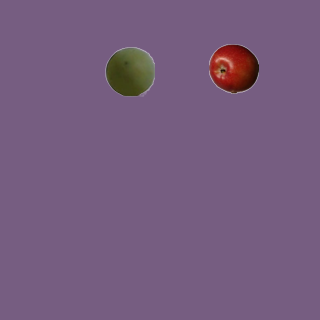Apple Braeburn: (208, 43, 258, 93)
Grape White 4: (104, 46, 154, 96)
